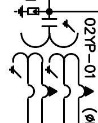115_cvt_1p: (8, 18, 94, 100)
115_la: (14, 5, 40, 18)
